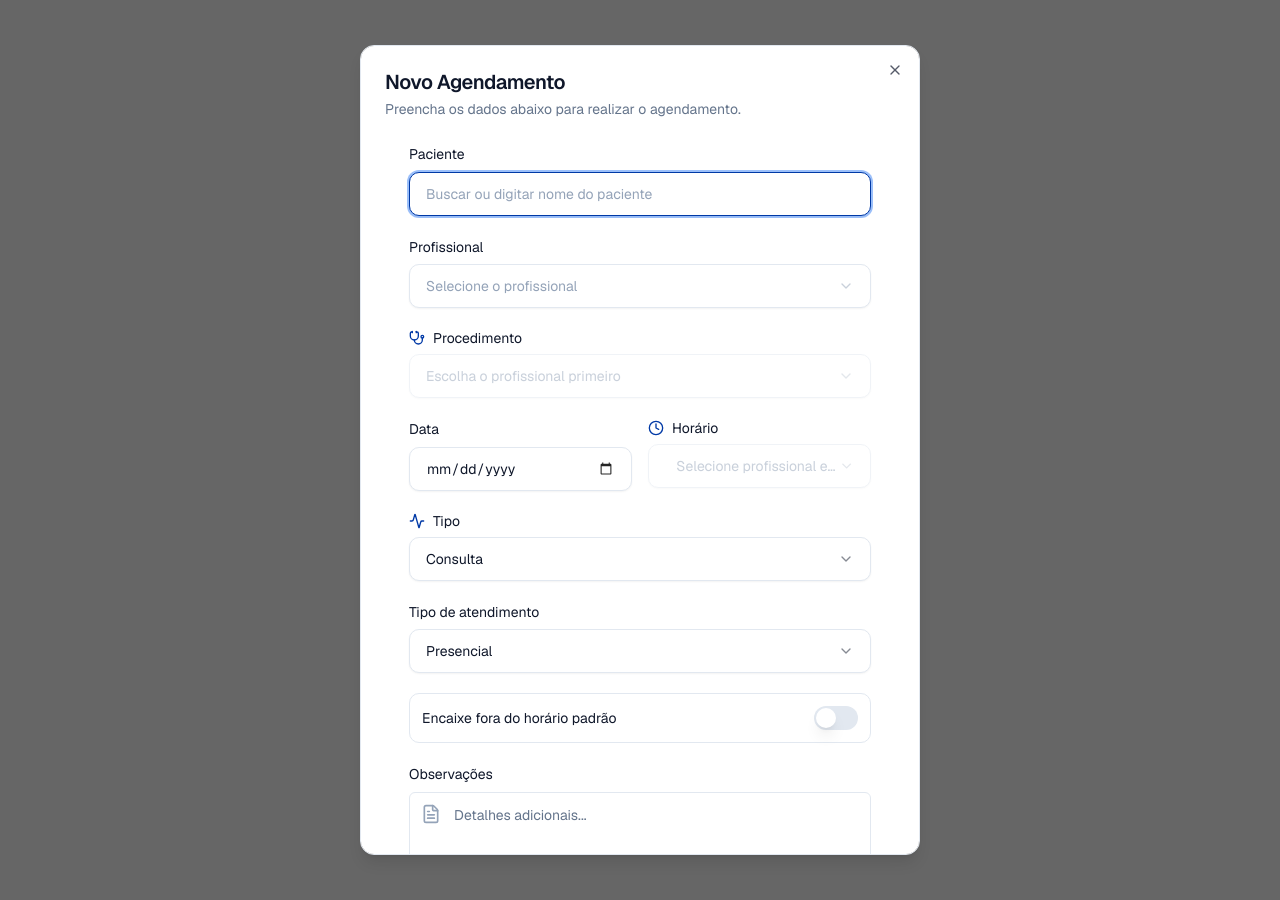
Test case: NovoAgendamentoModal — paciente autocomplete + cadastro rápido › filtra pacientes cadastrados ao digitar o nome
Type "Ana" into the dropdown with placeholder "Buscar ou digitar nome do paciente" at (640, 194), box [409, 172, 871, 216]
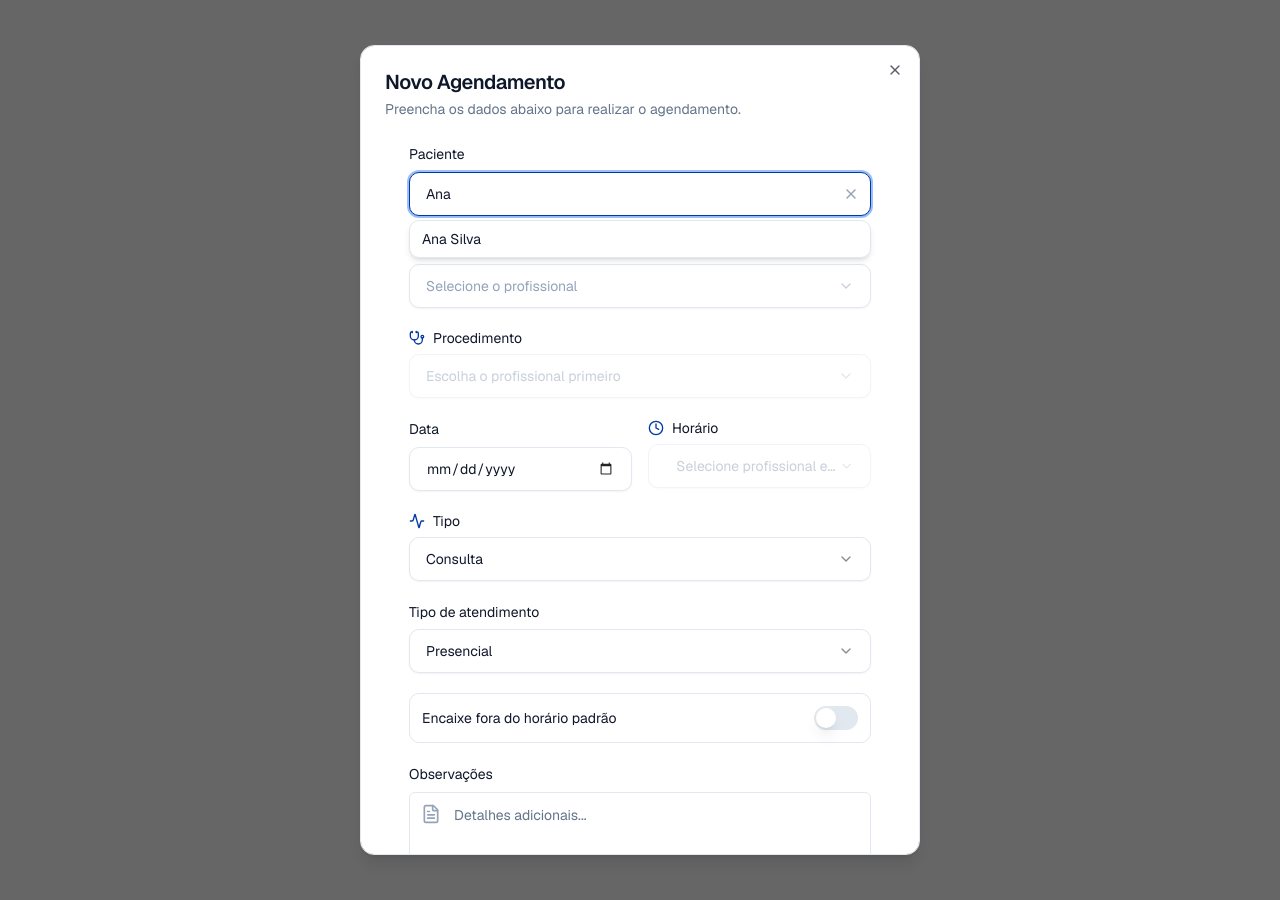
Check: the option "Ana Silva" is shown, box [410, 220, 870, 256]
